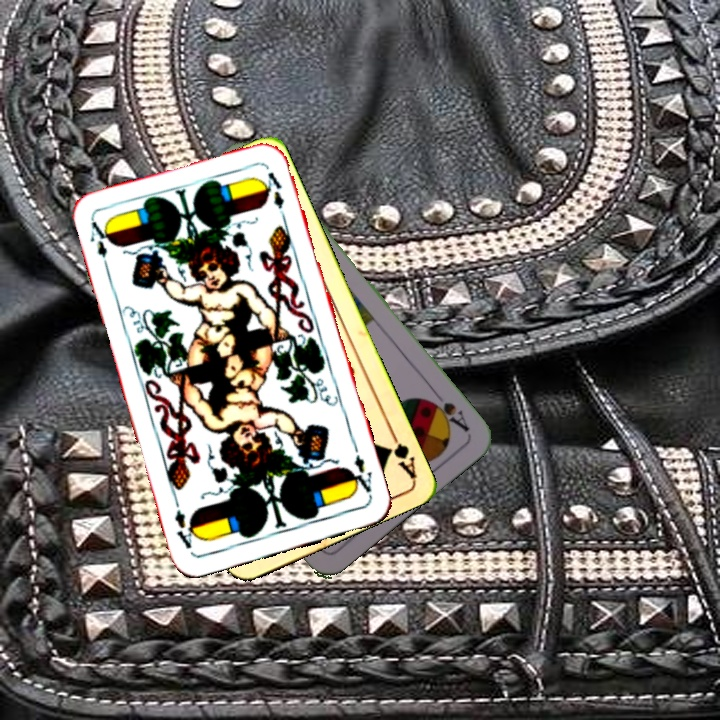EA: (345, 442, 375, 500), (86, 216, 115, 274)
GA: (382, 424, 419, 481)
SA: (422, 386, 472, 435)
